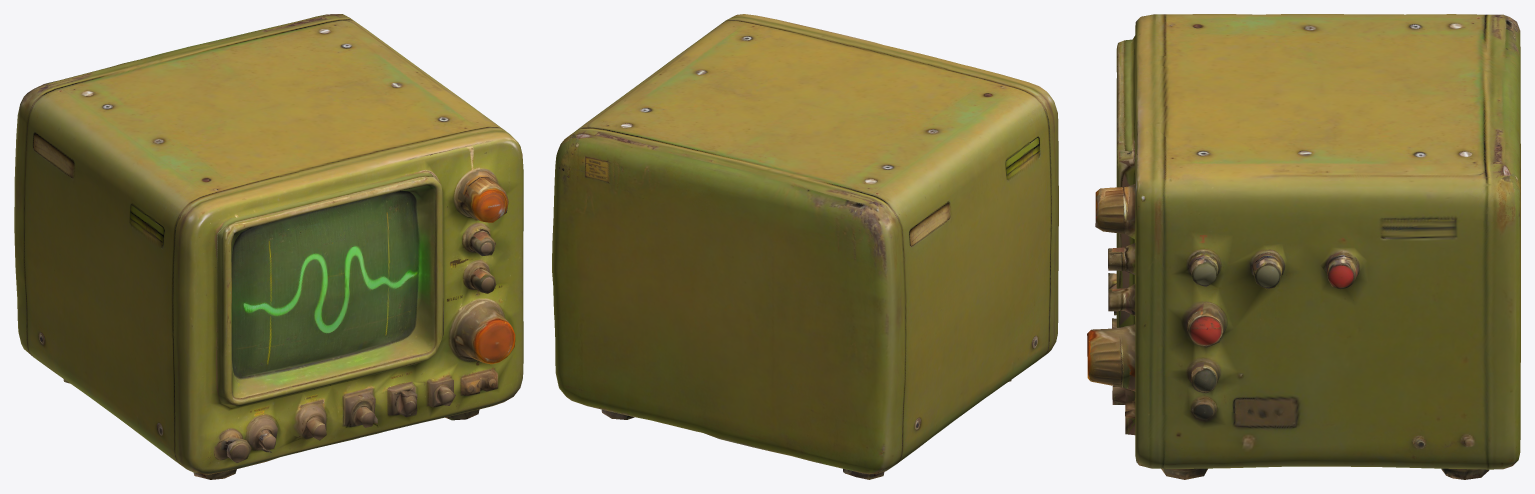
File: Vintage_Oscilloscope_0404141256_texture.glb
3 renders of one model, left to right at view 1: azimuth 30°, elevation 25°; view 2: azimuth 150°, elevation 25°; view 3: azimuth 270°, elevation 25°, orthographic. The views are drawn at different scales.
Size of the model in its own units: 1.99 by 1.51 by 1.88.
Materials: 1 (1 with a texture image).
